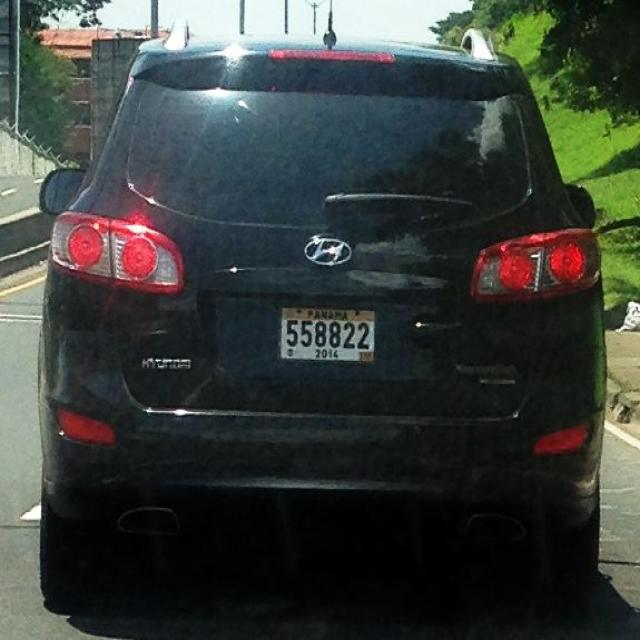Placas: (280, 304, 375, 365)
